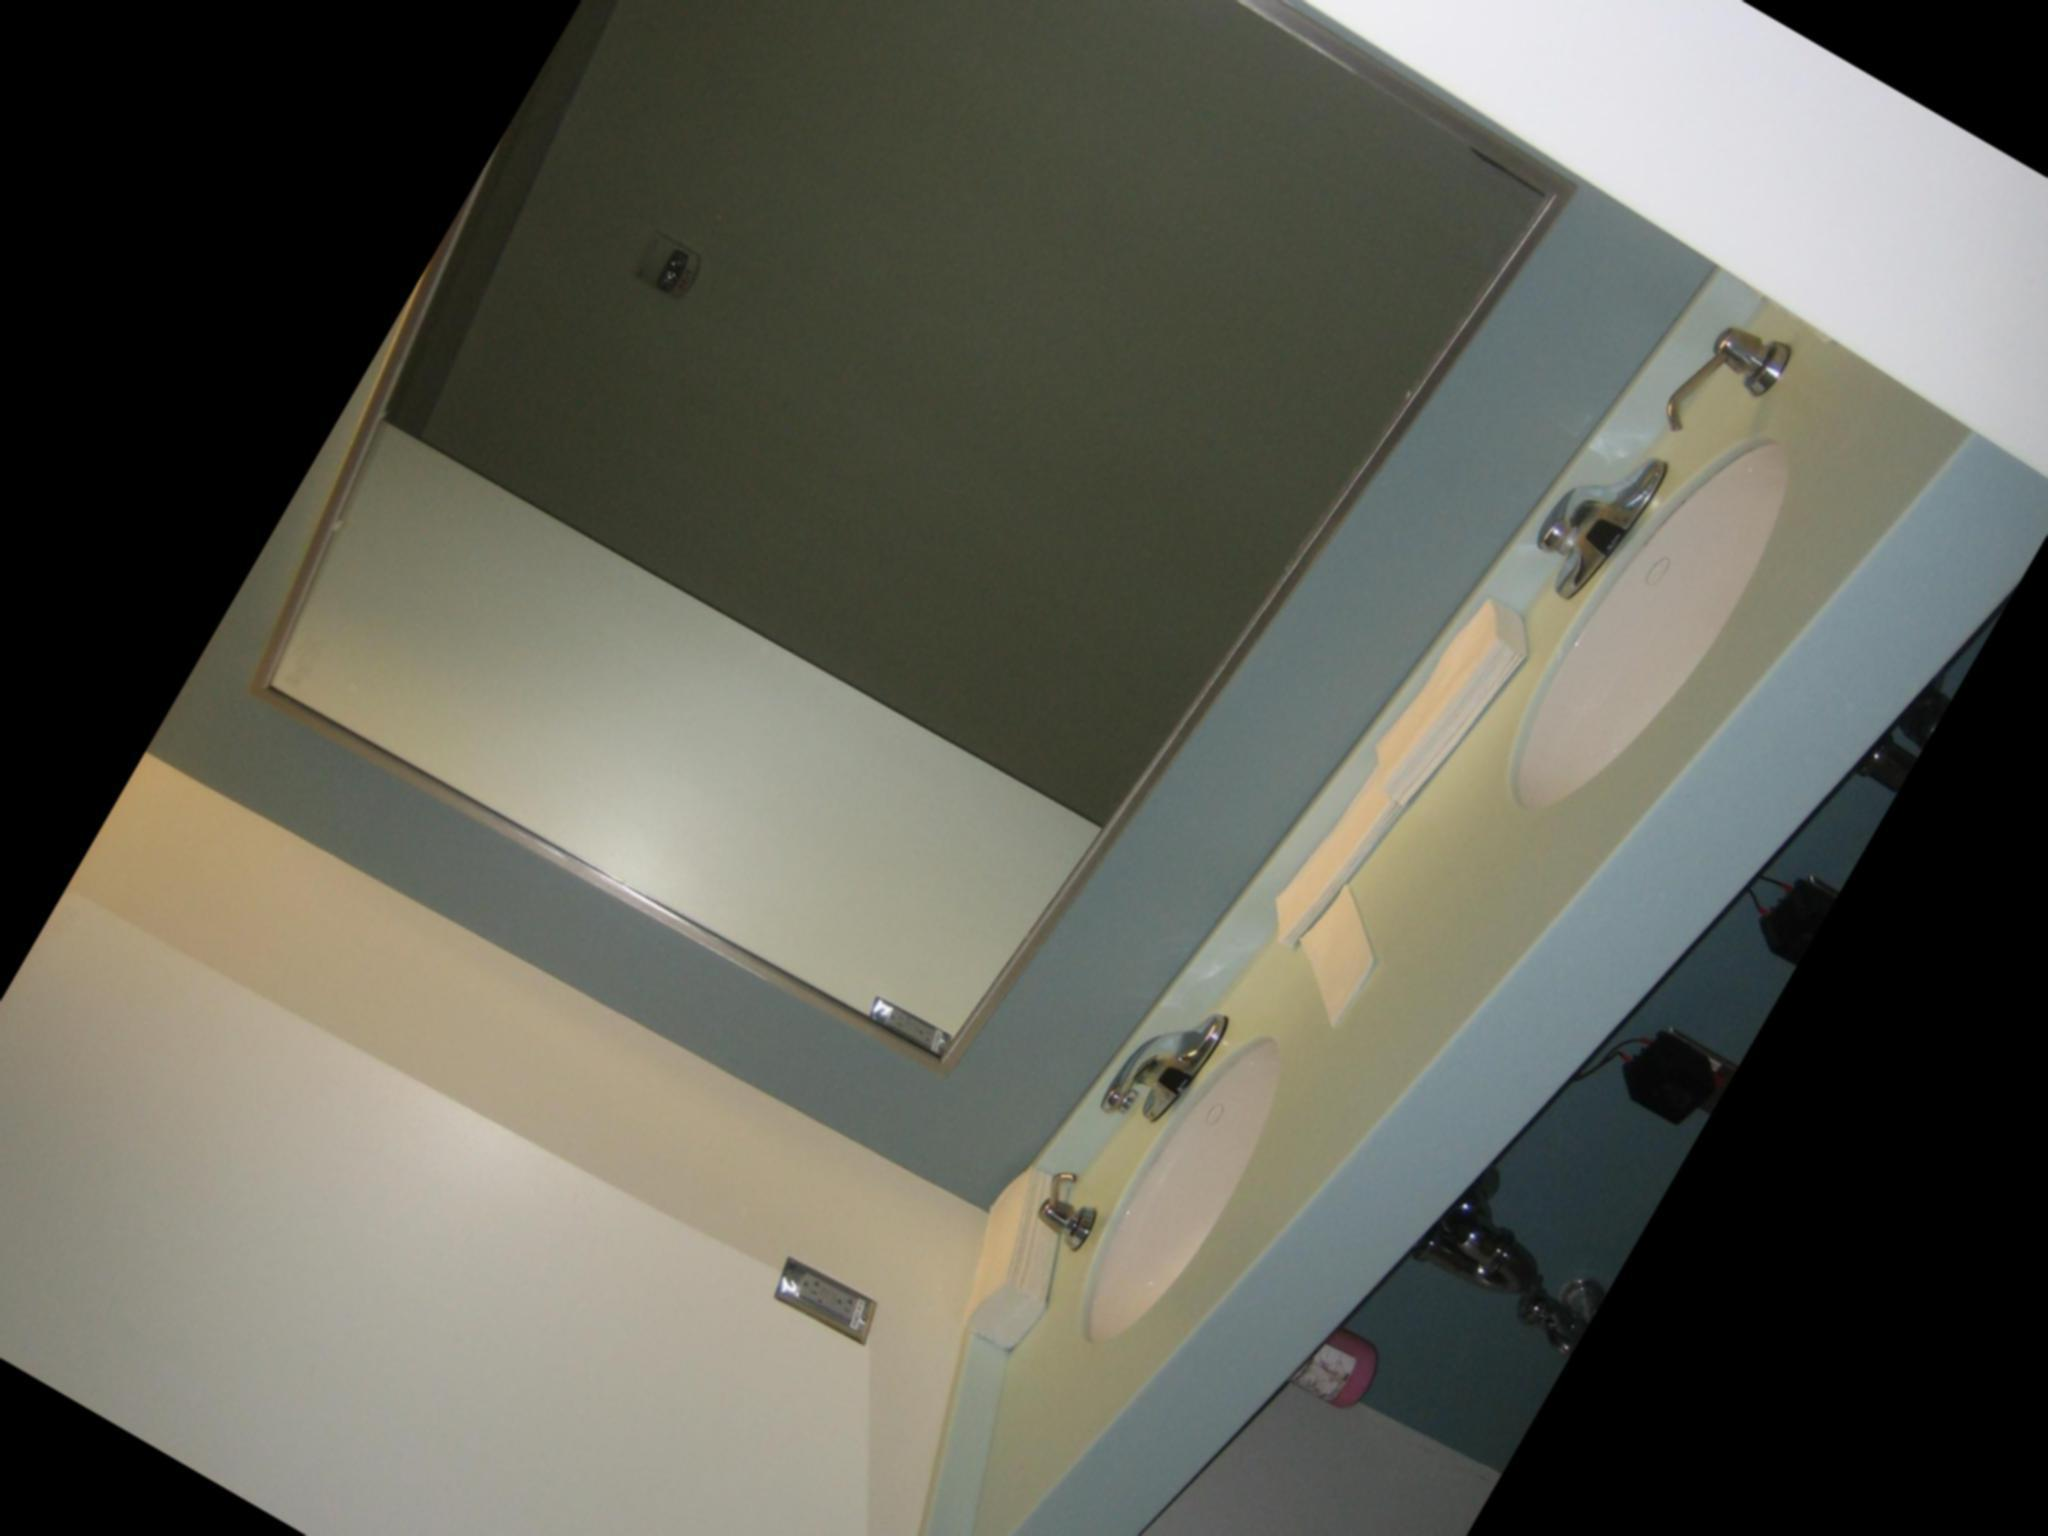Lavamanos: (1343, 307, 1867, 900), (964, 957, 1366, 1396)
